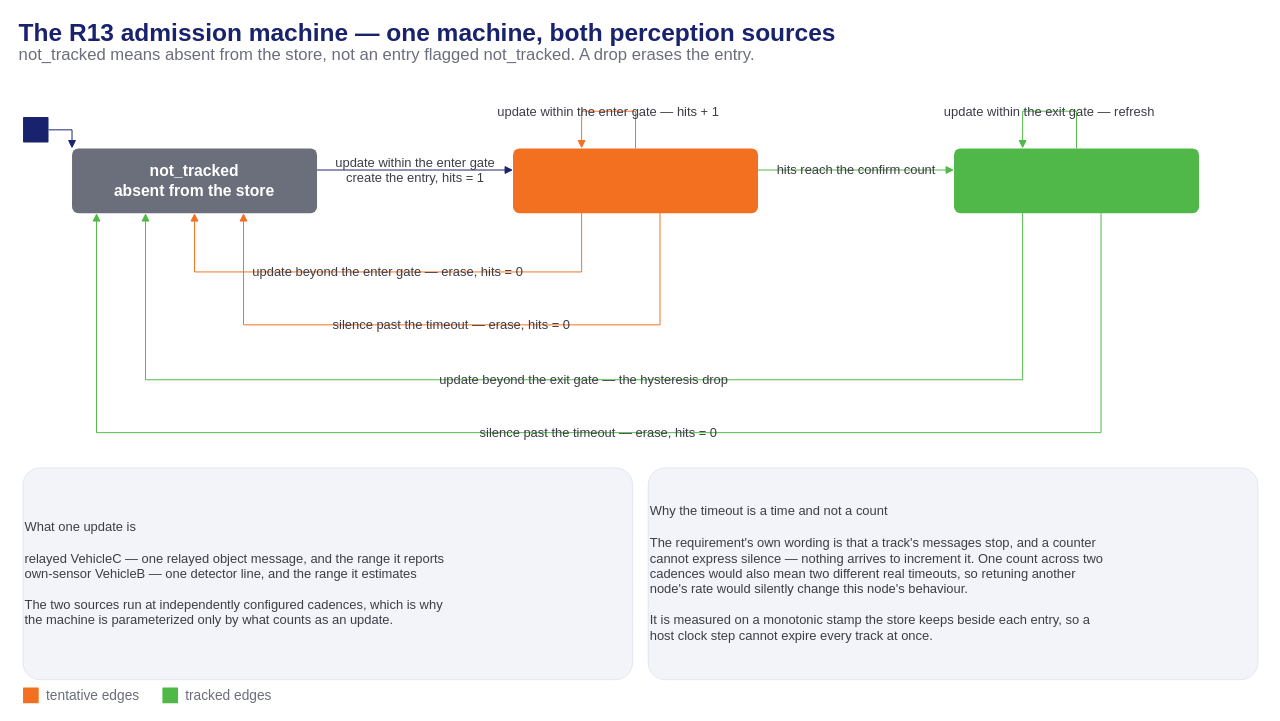
Some shapes in this 1280 by 721 pixel diagram are drawn without their labels. Here are the shapes that lost their labels. From the top down, the centre of each, then its label:
At point 635,180: "tentative in the store, confirming".
At point 1076,180: "tracked published to the assessment".
